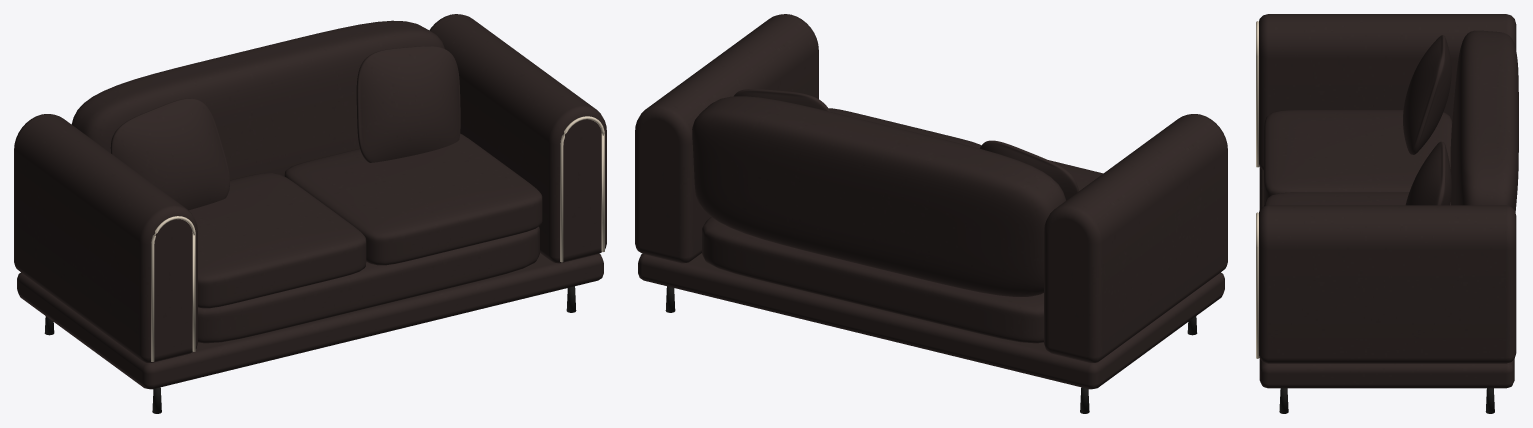
The model's file is cavali-sofa-set--sofa2.glb.
3 renders of one model, left to right at view 1: azimuth 30°, elevation 25°; view 2: azimuth 150°, elevation 25°; view 3: azimuth 270°, elevation 25°, orthographic. The views are drawn at different scales.
Parts seen in each view (by area): view 1: arm-1, back, arm1, seat1, band, seat0, seatbase, pillow1, pillow-1, pipe1, pipe-1; view 2: back, arm-1, arm1, band, seatbase, pillow-1, pillow1, seat1; view 3: arm1, arm-1, seat0, back, band, pillow-1, pillow1, seat1, pipe-1, pipe1.
Boxes of the visible parts, x1,y1,x2,y2 form: arm-1: (14,114,197,362); back: (71,20,444,180); arm1: (429,14,606,263); seat1: (284,133,542,265); band: (17,253,603,389); seat0: (189,173,366,308); seatbase: (198,226,539,343); pillow1: (356,46,460,162); pillow-1: (110,98,229,210); pipe1: (560,116,604,262); pipe-1: (151,216,195,361); back: (692,96,1066,296); arm-1: (1044,114,1227,362); arm1: (635,14,818,263); band: (638,253,1224,389); seatbase: (702,217,1043,343); pillow-1: (980,140,1078,200); pillow1: (734,89,830,111); seat1: (828,108,981,148); arm1: (1259,205,1516,363); arm-1: (1259,14,1516,170); seat0: (1264,110,1452,204); back: (1450,30,1518,212); band: (1259,167,1514,388); pillow-1: (1403,35,1451,154); pillow1: (1405,141,1451,205); seat1: (1264,192,1450,205); pipe-1: (1256,21,1259,167); pipe1: (1256,212,1259,358).
Size of the model in its own units: 1.8 by 0.8422 by 0.917.
Materials: 4 (1 with a texture image).
